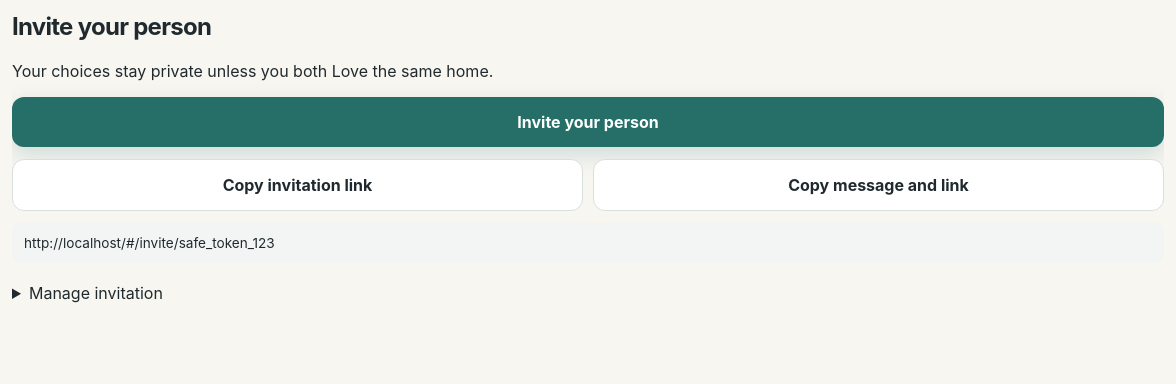
Test case: mobile invitation sharing › copies the message and handles clipboard denial safely
Click the button "Copy message and link".
click(878, 185)  # box [593,159,1164,211]
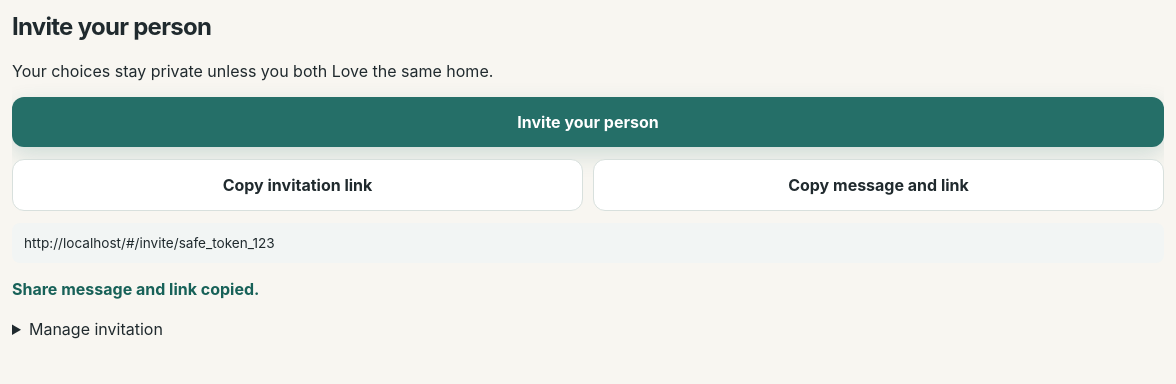
Now the text "Share message and link copied." is shown, box [12,279,259,299]
Click the button "Copy invitation link".
click(298, 185)  # box [12,159,583,211]
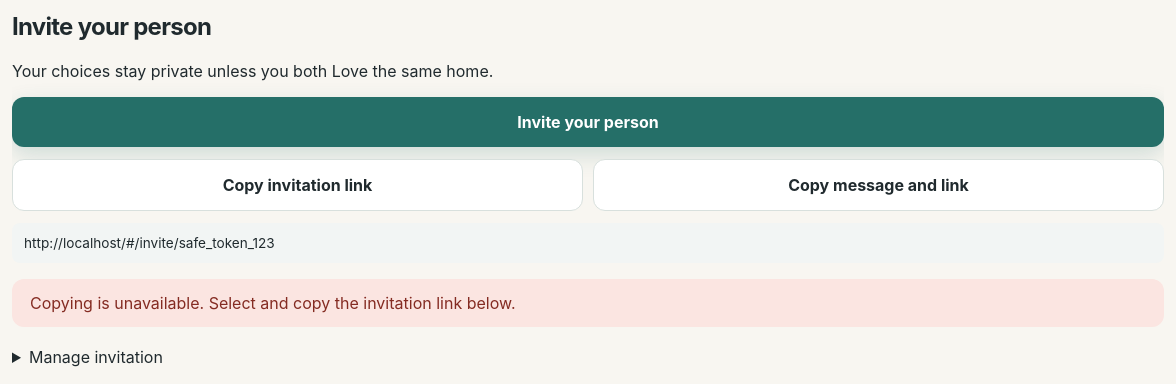
Now the message shows "Copying is unavailable", box [30,293,516,313]
